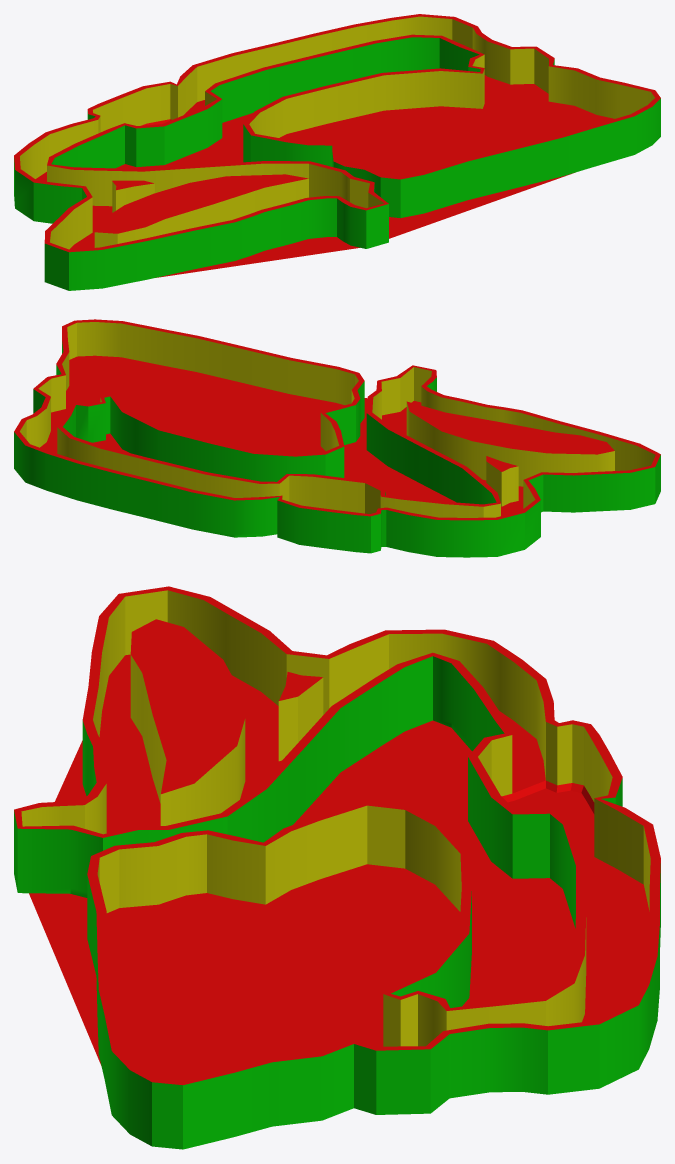
File: cave layout.fbx
3 renders of one model, top to bottom at view 1: azimuth 30°, elevation 25°; view 2: azimuth 150°, elevation 25°; view 3: azimuth 270°, elevation 25°, orthographic. The views are drawn at different scales.
Parts seen in each view (by area): view 1: polySurface1; view 2: polySurface1; view 3: polySurface1.
Boxes of the visible parts, x1,y1,x2,y2 form: polySurface1: (14, 14, 660, 290); polySurface1: (14, 319, 660, 557); polySurface1: (14, 586, 660, 1149).
Bounding box in the file's own units: 15.79 × 1.02 × 8.66.
